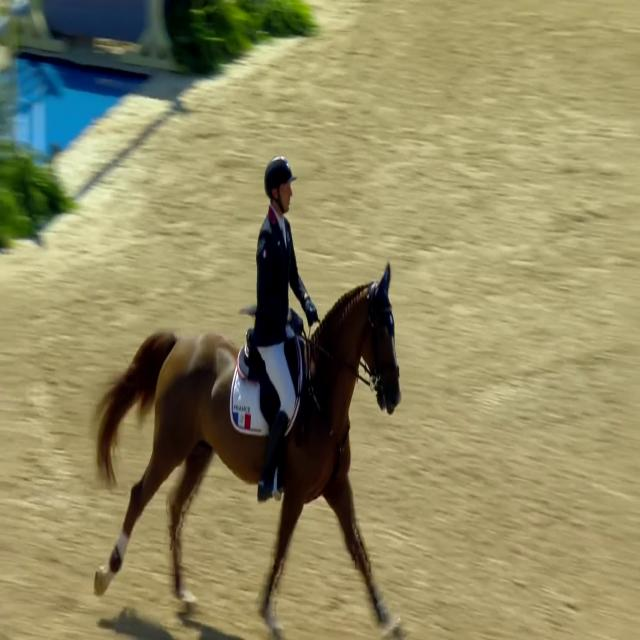Horse Rider: (249, 94, 315, 528)
Horse Running: (71, 258, 428, 640)
